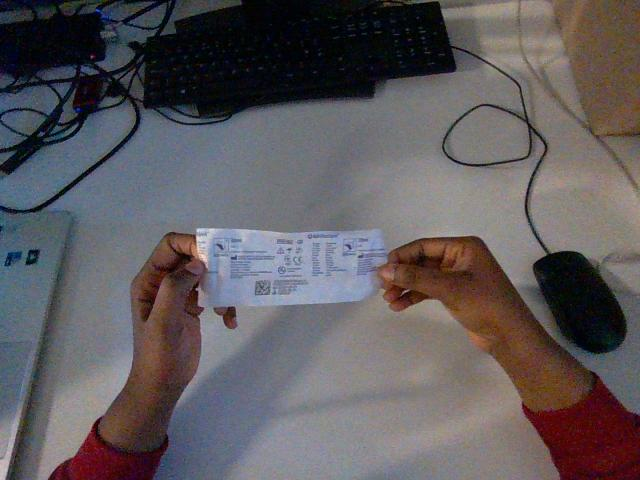syringe: (196, 228, 386, 306)
